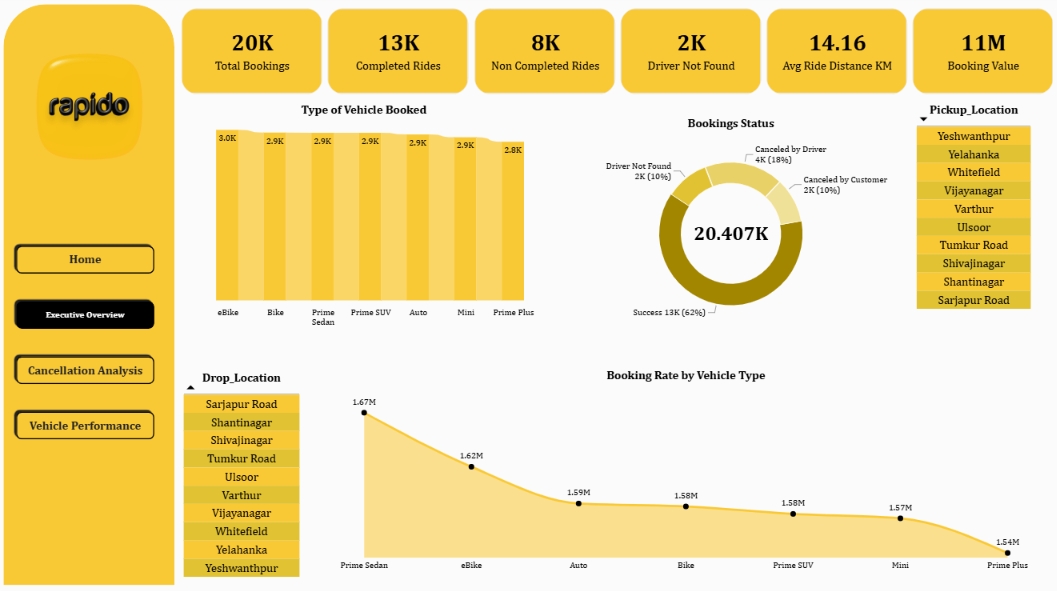

Layout of this report page (visuals, bound fields, positions):
{"tool":"powerbi","page":{"name":"Executive Overview","canvas":[1920,1080],"ordinal":1},"visuals":[{"type":"cardVisual","fields":{"Data":["_Measures.Total_Bookings"]},"box":[331.2,23.5,255.2,155.6],"z":0},{"type":"shape","box":[9,16.3,309.5,1051.4],"z":1000,"group":"g1"},{"type":"cardVisual","fields":{"Data":["_Measures.Completed_Rides"]},"box":[595.4,23.5,255.2,155.6],"z":1000},{"type":"cardVisual","fields":{"Data":["_Measures.Cancelled_Ride"]},"box":[861.4,23.5,255.2,155.6],"z":2000},{"type":"cardVisual","fields":{"Data":["_Measures.Driver_Not_Found"]},"box":[1125.6,23.5,255.2,155.6],"z":3000},{"type":"cardVisual","fields":{"Data":["_Measures.Booking_Value"]},"box":[1654,23.5,255.2,155.6],"z":4000},{"type":"image","box":[9,59.7,311.3,284.1],"z":4000,"group":"g1"},{"type":"cardVisual","fields":{"Data":["_Measures.Ride_Distance"]},"box":[1389.8,23.5,255.2,155.6],"z":5000},{"type":"pageNavigator","box":[27,448.3,260.6,360.1],"z":5000,"group":"g1"},{"type":"donutChart","title":"Bookings Status","fields":{"Category":["Rapido.Booking_Status"],"Y":["CountNonNull(Rapido.Booking_ID)"]},"box":[1024.3,204.5,602.6,414.4],"z":7000},{"type":"lineChart","title":"Booking Rate by Vehicle Type","fields":{"Category":["Rapido.Vehicle_Type"],"Y":["Sum(Rapido.Booking_Value)"]},"box":[568.2,660.5,1351.8,399.9],"z":8000},{"type":"tableEx","fields":{"Values":["Rapido.Pickup_Location"]},"box":[1645,175.5,242.5,459.7],"z":9000},{"type":"columnChart","title":"Type of  Vehicle Booked","fields":{"Y":["CountNonNull(Rapido.Booking_ID)"],"Category":["Rapido.Vehicle_Type"]},"box":[318.5,179.2,685.9,439.7],"z":10000},{"type":"tableEx","fields":{"Values":["Rapido.Drop_Location"]},"box":[318.5,660.5,242.5,419.8],"z":11000},{"type":"group","id":"g1","title":"Group 1","box":[9,16.3,311.3,1051.4],"z":11001}]}

Visuals, with their boxes in screenshot pixels (x1, y1, x2, y2), scaled from the page's 1920x1080 canvas onto the 1057x591 screenshot:
cardVisual - _Measures.Total_Bookings: bbox(182, 13, 323, 98)
shape: bbox(5, 9, 175, 584)
cardVisual - _Measures.Completed_Rides: bbox(328, 13, 468, 98)
cardVisual - _Measures.Cancelled_Ride: bbox(474, 13, 615, 98)
cardVisual - _Measures.Driver_Not_Found: bbox(620, 13, 760, 98)
cardVisual - _Measures.Booking_Value: bbox(911, 13, 1051, 98)
image: bbox(5, 33, 176, 188)
cardVisual - _Measures.Ride_Distance: bbox(765, 13, 906, 98)
pageNavigator: bbox(15, 245, 158, 442)
"Bookings Status" donutChart: bbox(564, 112, 896, 339)
"Booking Rate by Vehicle Type" lineChart: bbox(313, 361, 1056, 580)
tableEx - Rapido.Pickup_Location: bbox(906, 96, 1039, 348)
"Type of  Vehicle Booked" columnChart: bbox(175, 98, 553, 339)
tableEx - Rapido.Drop_Location: bbox(175, 361, 309, 590)
"Group 1" group: bbox(5, 9, 176, 584)
